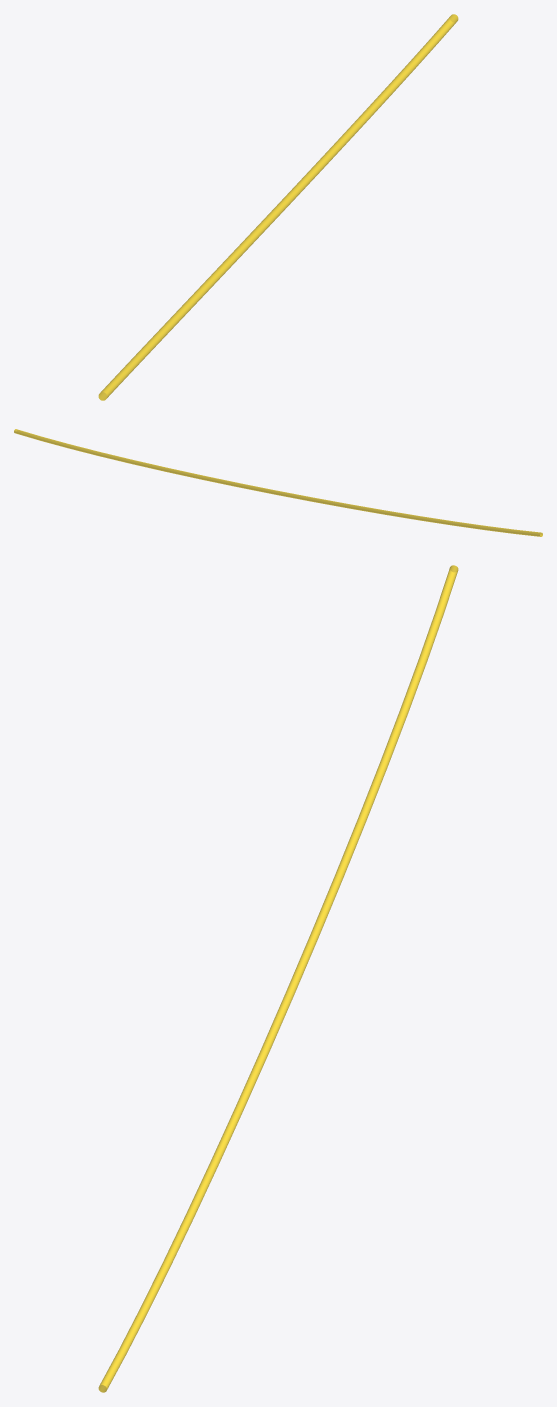
Rendered from Event_75125125_track_27.fbx.
3 renders of one model, top to bottom at view 1: azimuth 90°, elevation 25°; view 2: azimuth 150°, elevation 25°; view 3: azimuth 270°, elevation 25°, orthographic. The views are drawn at different scales.
Visible parts, largest first — view 1: Model; view 2: Model; view 3: Model.
Part boxes in pixels (x1,y1,x2,y2): Model: (98,14,458,400); Model: (14,429,542,536); Model: (98,565,458,1392).
Bounding box in the file's own units: 6.4 × 1.14 × 1.62.
